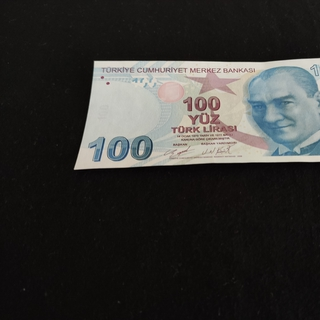100TLFront: (73, 56, 320, 172)
